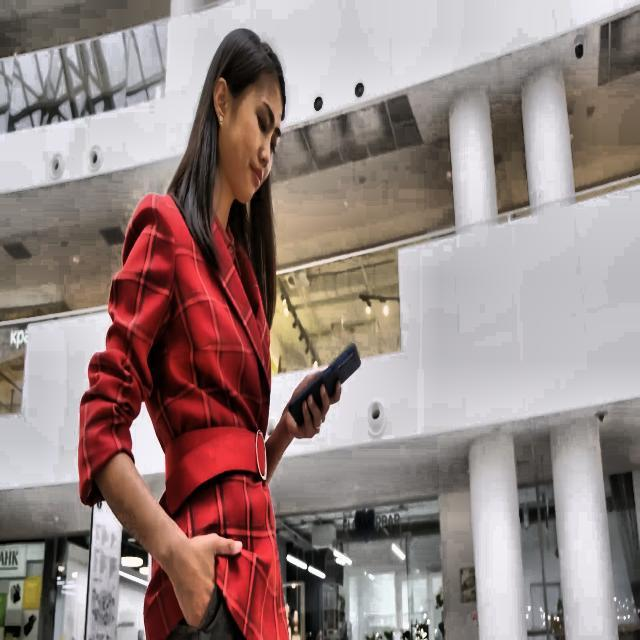Phone: (286, 341, 362, 431)
